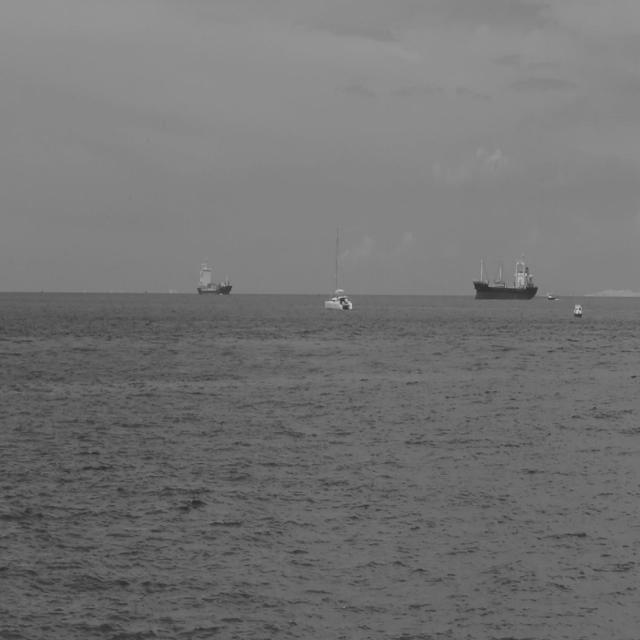boat: (323, 222, 354, 313)
ship: (470, 250, 539, 304), (196, 260, 233, 298), (572, 300, 584, 320), (547, 293, 556, 301)
